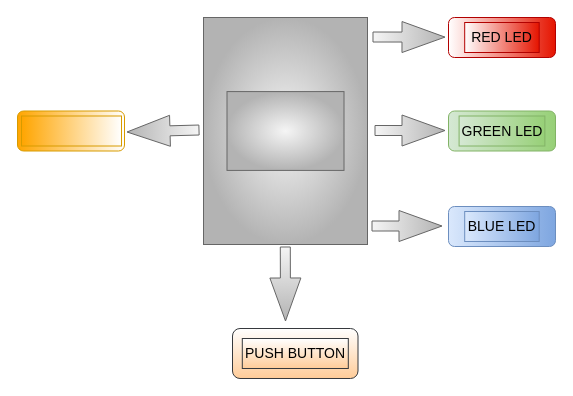
The diagram is 573 pixels wide and 396 high, and some of its shapes have lost their labels. The centre of each missing label's shape, as x and y in pixels:
"STM32F407VG Microcontroller" goes at [285,130].
"YELLOW LED" goes at [71,130].
